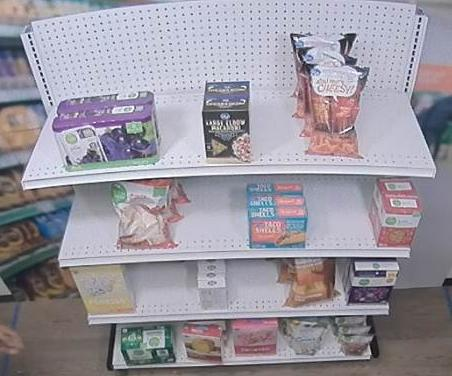stockout: (362, 68, 433, 166), (248, 79, 303, 160), (309, 176, 373, 244), (185, 176, 244, 246), (58, 189, 113, 257), (158, 82, 204, 163), (129, 265, 196, 311), (227, 260, 287, 309), (27, 102, 63, 175)
